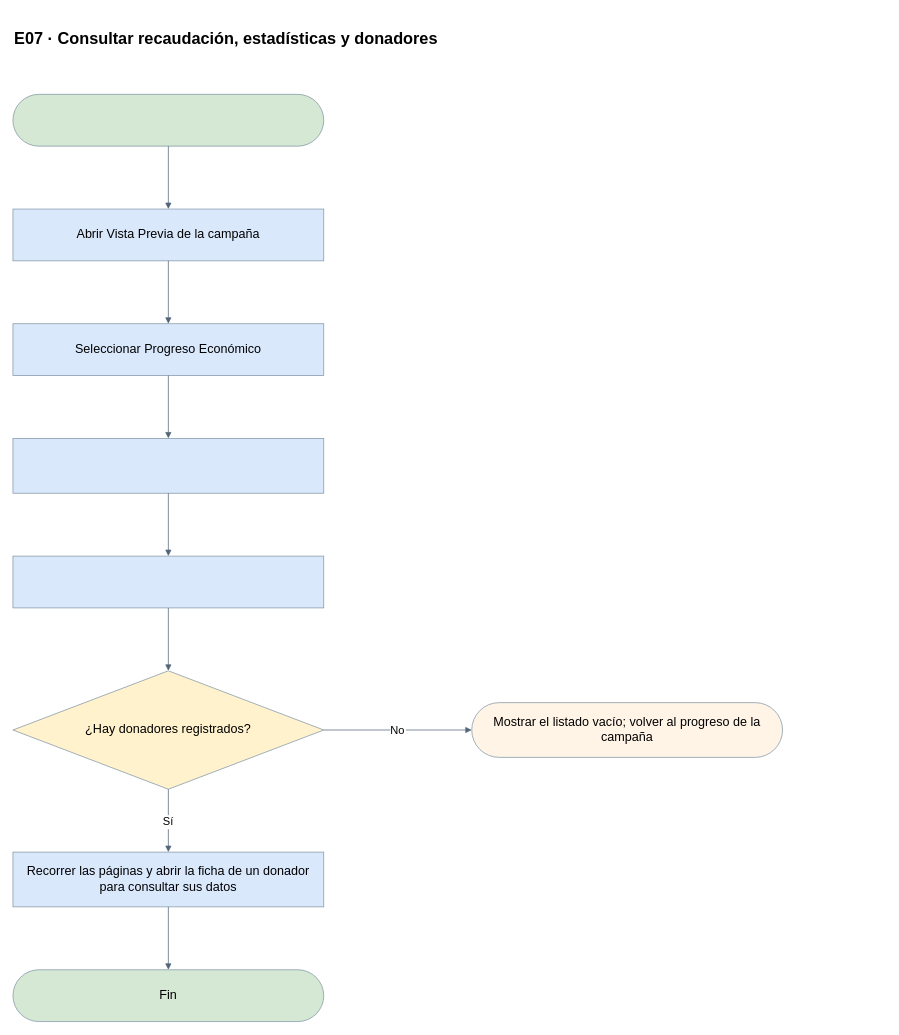
The diagram is 899 pixels wide and 1035 high, and some of its shapes have lost their labels. The centre of each missing label's shape, as x and y in pixels:
Consultar recaudación, evolución, desglose y proyección: (x=168, y=465)
Inicio: (x=168, y=120)
Seleccionar Donadores Activos: (x=168, y=581)
